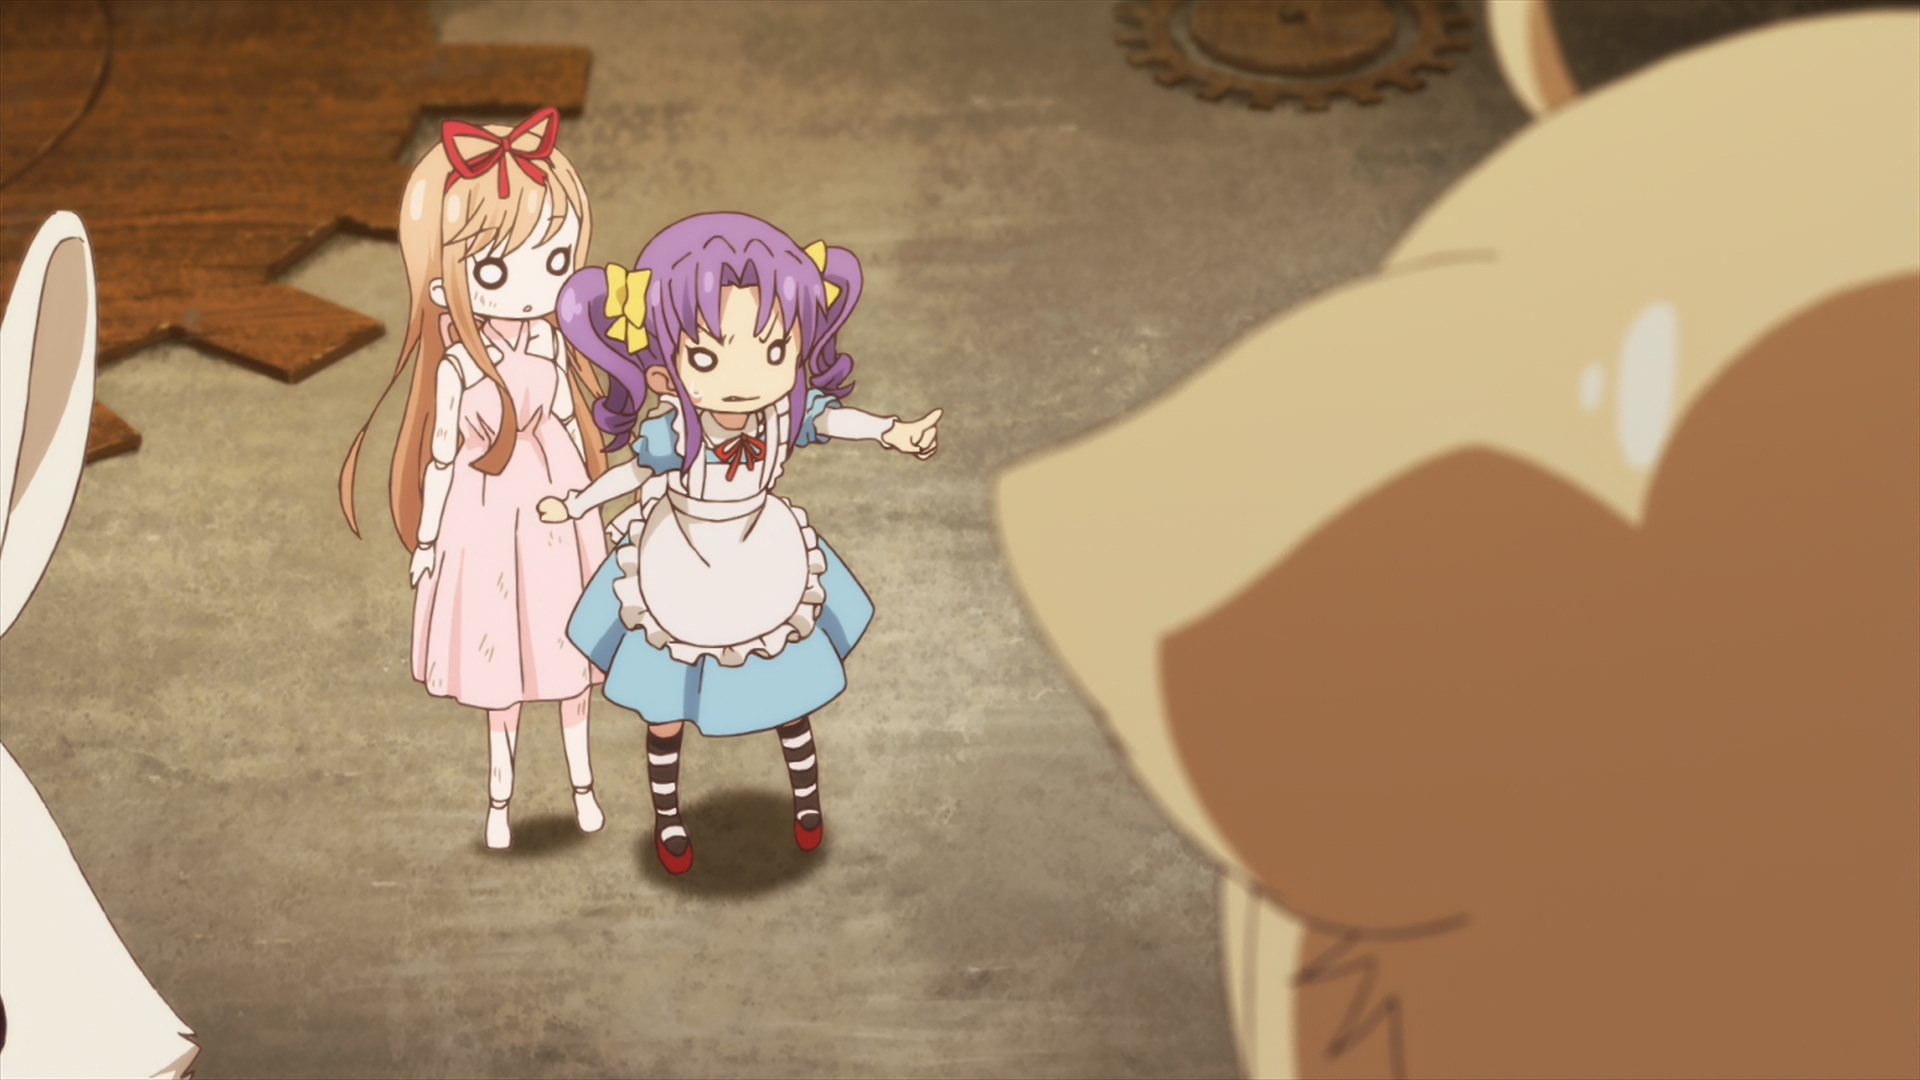其他: (339, 105, 638, 856)
柚: (992, 1, 1920, 1080)
阿菊: (535, 211, 942, 878)
